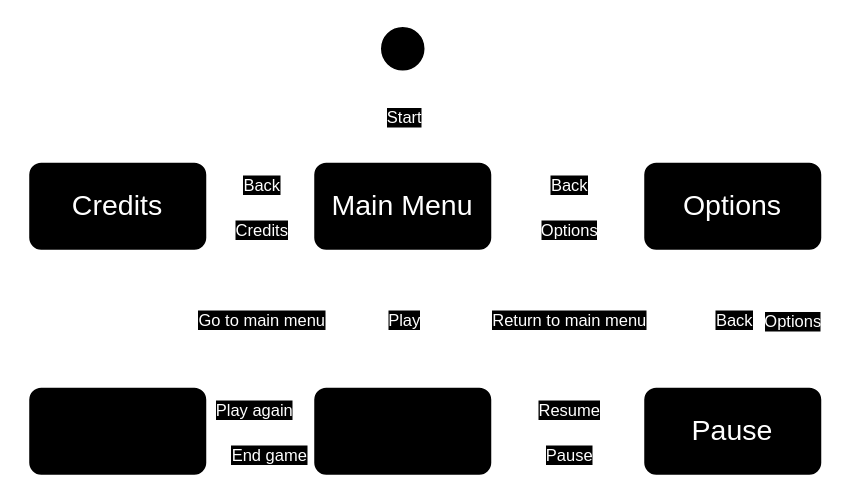
The diagram is 849 pixels wide and 504 high, and some of its shapes have lost their labels. Each missing label, with the centre of its shape:
"Gameplay" goes at pixel 402 430.
"WinScreen" goes at pixel 117 430.
